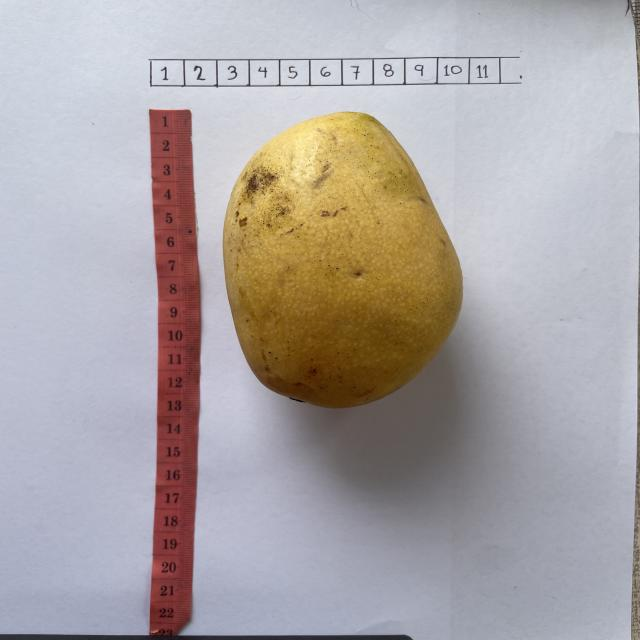Ripe: (222, 111, 464, 411)
